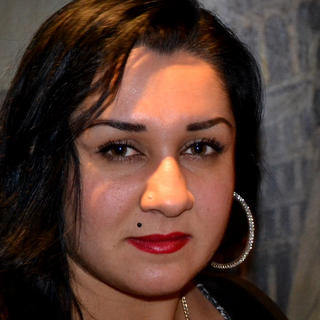eye: (93, 134, 147, 164), (174, 135, 227, 162)
